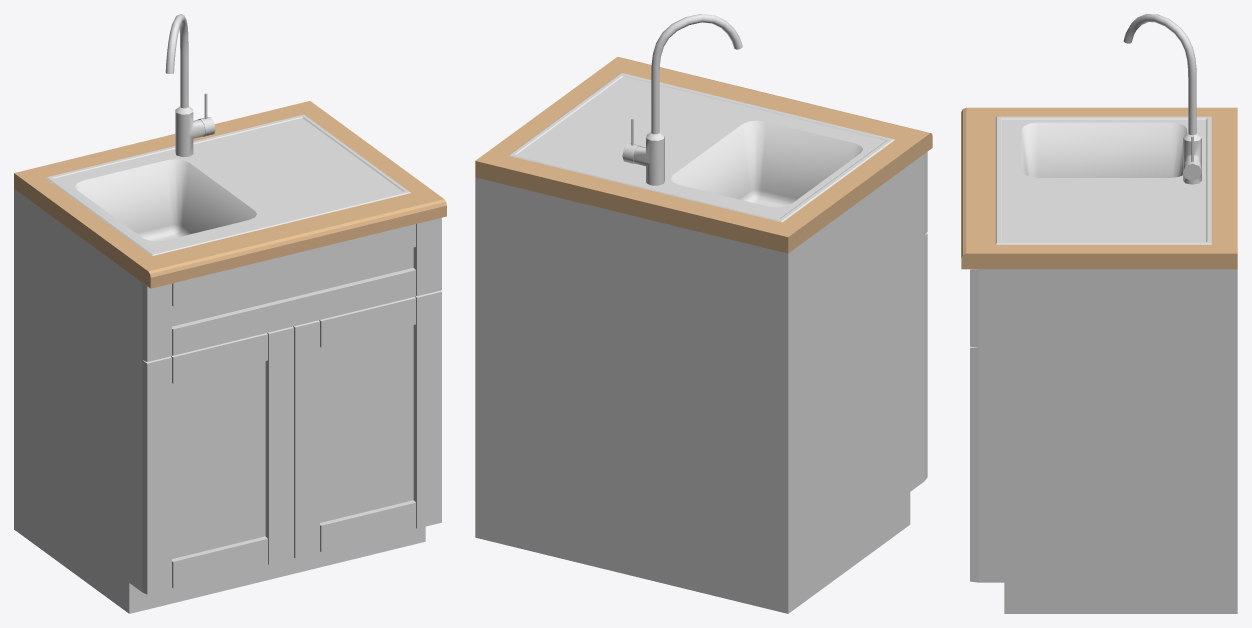
Rendered from floor_unit_sink.dae.
The picture shows the model from 3 angles, left to right: view 1: azimuth 30°, elevation 25°; view 2: azimuth 150°, elevation 25°; view 3: azimuth 270°, elevation 25°; orthographic projection. The views are drawn at different scales.
Parts seen in each view (by area): view 1: cover_sink_wide, Floor_unit_wide, Sink_Kitchen, CounterTop_Sink, Faucet; view 2: Floor_unit_wide, Sink_Kitchen, CounterTop_Sink, Faucet, cover_sink_wide; view 3: Floor_unit_wide, Sink_Kitchen, CounterTop_Sink, cover_sink_wide, Faucet.
Part boxes in pixels (box(x1,y1,x2,y2)): cover_sink_wide: box(142, 217, 441, 594); Floor_unit_wide: box(14, 189, 425, 613); Sink_Kitchen: box(46, 114, 410, 255); CounterTop_Sink: box(14, 101, 446, 288); Faucet: box(165, 14, 215, 156); Floor_unit_wide: box(475, 155, 923, 613); Sink_Kitchen: box(508, 73, 894, 222); CounterTop_Sink: box(475, 57, 932, 253); Faucet: box(622, 14, 742, 185); cover_sink_wide: box(923, 152, 927, 481); Floor_unit_wide: box(978, 269, 1237, 613); Sink_Kitchen: box(995, 116, 1211, 244); CounterTop_Sink: box(961, 107, 1237, 269); cover_sink_wide: box(970, 269, 978, 582); Faucet: box(1123, 14, 1201, 184).
Size of the model in its own units: 0.8 by 0.64 by 1.31.
